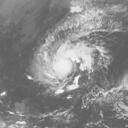cyclone: (31, 27, 97, 92)
